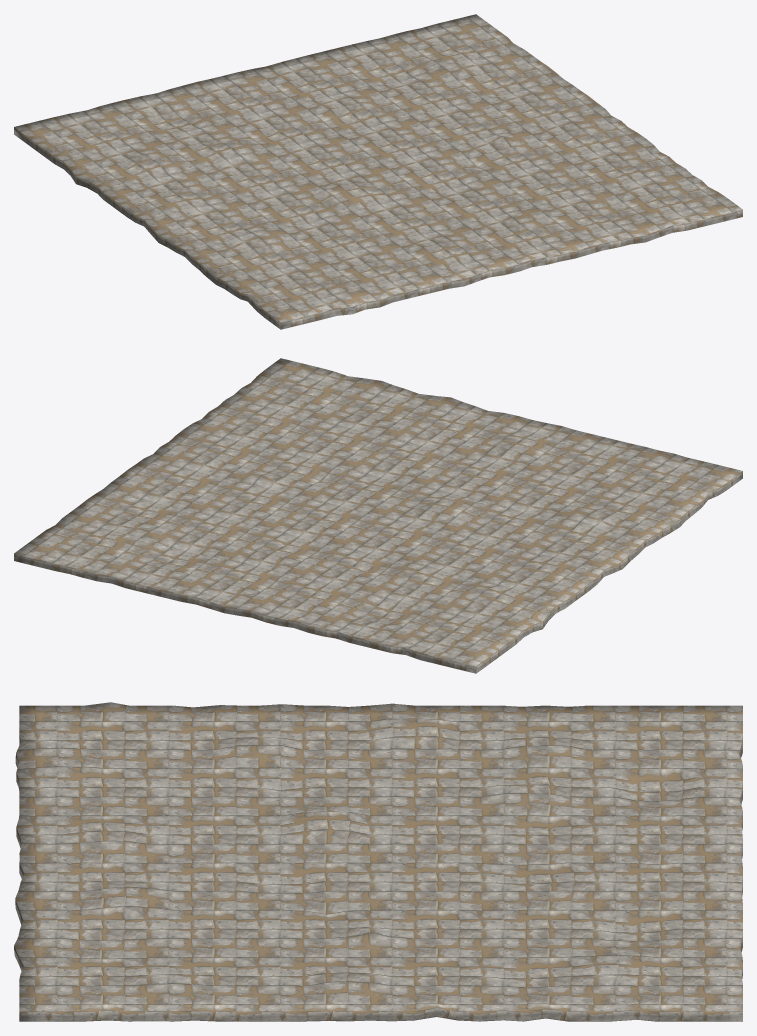
File: Arena.fbx
The picture shows the model from 3 angles, top to bottom: view 1: azimuth 30°, elevation 25°; view 2: azimuth 150°, elevation 25°; view 3: azimuth 270°, elevation 25°; orthographic projection. The views are drawn at different scales.
Parts seen in each view (by area): view 1: Plane; view 2: Plane; view 3: Plane.
Part boxes in pixels (x1,y1,x2,y2): Plane: [14, 14, 742, 329]; Plane: [14, 358, 742, 673]; Plane: [14, 702, 742, 1021].
Bounding box in the file's own units: 5986 × 178 × 6001.
1 material, 1 textured.
